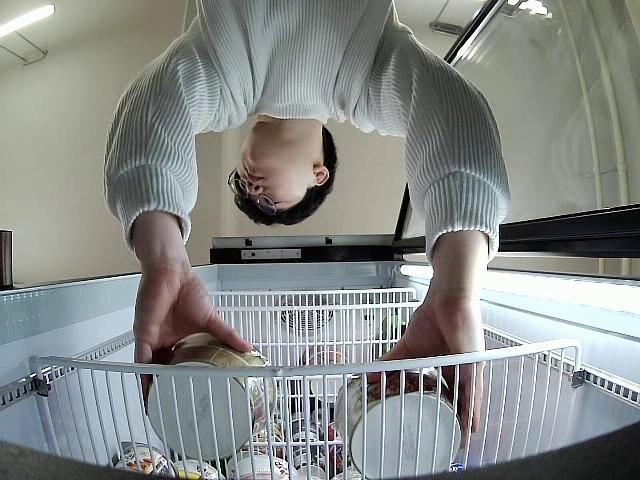03_chapagetti_L: (150, 336, 278, 458), (333, 372, 463, 478)
